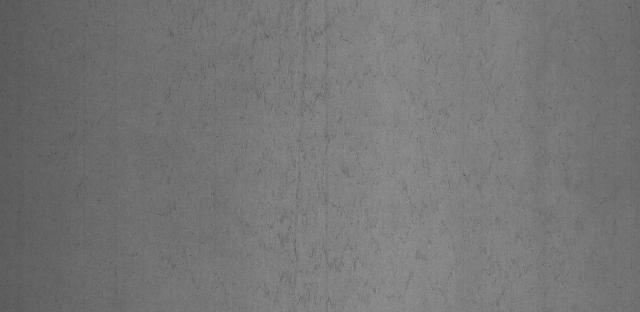silk_spot: (401, 11, 623, 288), (171, 10, 385, 294)
